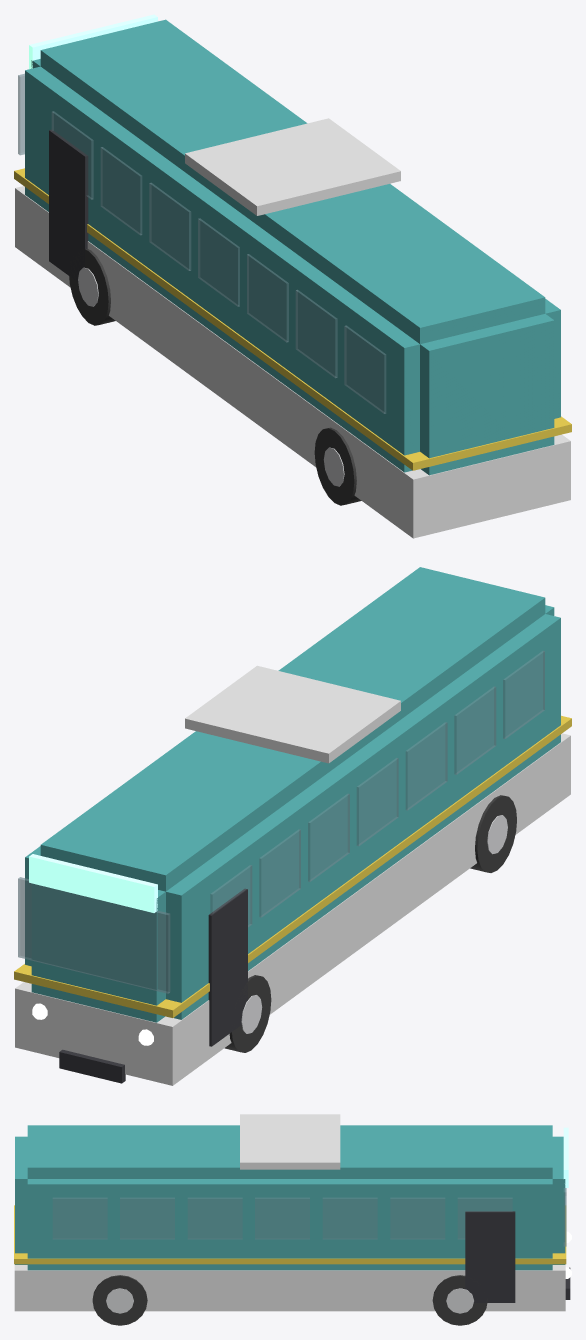
Rendered from bus.glb.
3 renders of one model, top to bottom at view 1: azimuth 30°, elevation 25°; view 2: azimuth 150°, elevation 25°; view 3: azimuth 270°, elevation 25°, orthographic. The views are drawn at different scales.
Visible parts, largest first — view 1: bus; view 2: bus; view 3: bus.
Part boxes in pixels (left/top/right/bottom): bus: left=14, top=14, right=571, bottom=538; bus: left=14, top=567, right=571, bottom=1085; bus: left=14, top=1114, right=571, bottom=1325.
Bounding box in the file's own units: 2.62 × 3.53 × 11.15.
